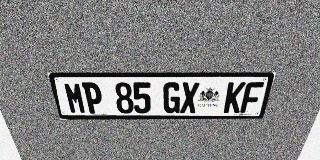5: (133, 82, 151, 113)
8: (114, 82, 134, 113)
F: (240, 82, 264, 113)
G: (163, 82, 181, 113)
K: (223, 82, 246, 113)
M: (63, 82, 87, 114)
P: (82, 82, 104, 114)
X: (180, 82, 200, 113)
